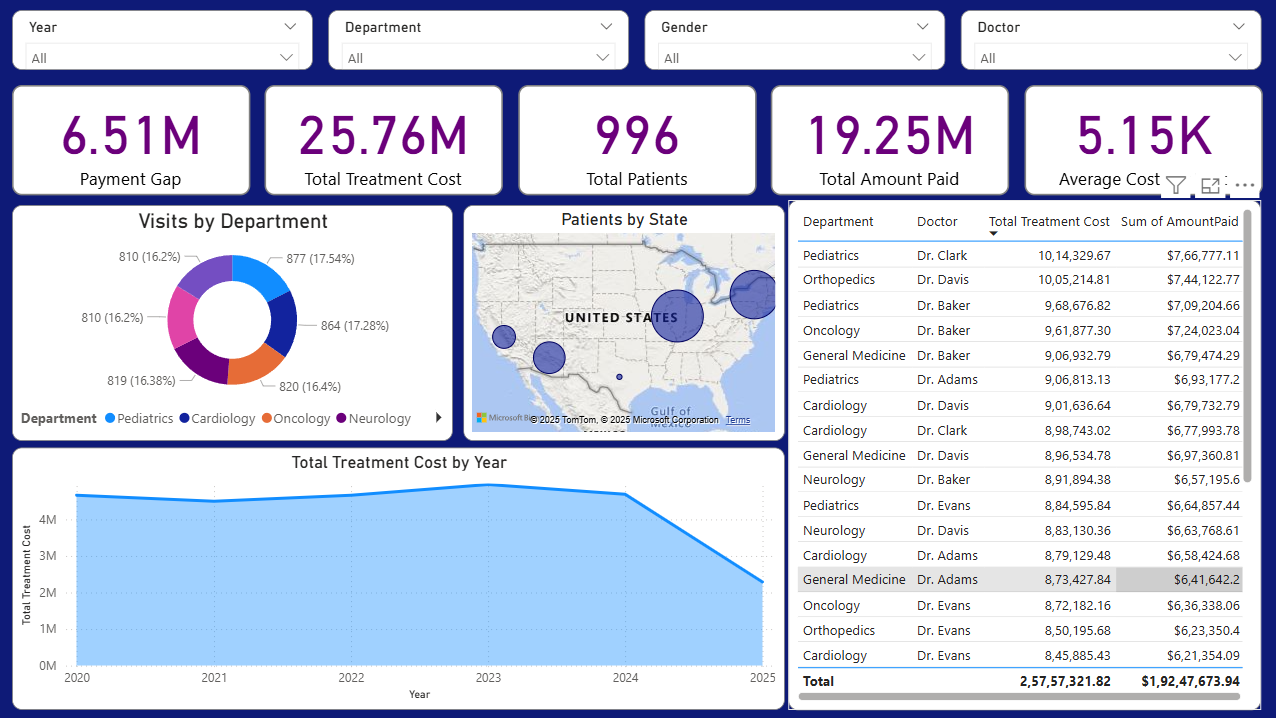

This screenshot's page, from the dashboard's own definition file:
{"tool":"powerbi","page":{"name":"Page 1","canvas":[1280,720],"ordinal":0},"visuals":[{"type":"card","fields":{"Values":["Patients.Total Patients"]},"box":[521,85,238,110],"z":0},{"type":"card","fields":{"Values":["Visits.Total Treatment Cost"]},"box":[268,85,238,110],"z":1000},{"type":"card","fields":{"Values":["Billing.Total Amount Paid"]},"box":[774,85,238,110],"z":2000},{"type":"card","fields":{"Values":["Billing.Payment Gap"]},"box":[15,85,238,110],"z":3000},{"type":"card","fields":{"Values":["Visits.Average Cost per Visit"]},"box":[1027,85,238,110],"z":4000},{"type":"donutChart","title":"Visits by Department","fields":{"Category":["Visits.Department"],"Y":["Visits.VisitID"]},"box":[15.2,204.5,440.9,236.4],"z":5000},{"type":"areaChart","fields":{"Category":["DateTable.Date.Variation.Date Hierarchy.Year"],"Y":["Visits.Total Treatment Cost"]},"box":[15.2,447,772.7,262.1],"z":6000},{"type":"map","title":"Patients by State","fields":{"Category":["Patients.State"],"Size":["Patients.PatientID"]},"box":[466.7,204.5,321.2,236.4],"z":7000},{"type":"slicer","fields":{"Values":["DateTable.Year"]},"box":[15,10,301,60],"z":8000},{"type":"slicer","fields":{"Values":["Visits.Department"]},"box":[331,10,301,60],"z":9000},{"type":"slicer","fields":{"Values":["Visits.Doctor"]},"box":[964,10,301,60],"z":10000},{"type":"slicer","fields":{"Values":["Patients.Gender"]},"box":[648,10,301,60],"z":11000},{"type":"tableEx","fields":{"Values":["Visits.Department","Visits.Doctor","Visits.Total Treatment Cost","Billing.AmountPaid"]},"box":[791.4,200.3,472.9,510.3],"z":12000}]}

Visuals, with their boxes in screenshot pixels (x1, y1, x2, y2), scaled from the page's 1280x720 canvas onto the 1276x718 screenshot:
card - Patients.Total Patients: (519,85,757,194)
card - Visits.Total Treatment Cost: (267,85,504,194)
card - Billing.Total Amount Paid: (772,85,1009,194)
card - Billing.Payment Gap: (15,85,252,194)
card - Visits.Average Cost per Visit: (1024,85,1261,194)
"Visits by Department" donutChart: (15,204,455,440)
areaChart - DateTable.Date.Variation.Date Hierarchy.Year x Visits.Total Treatment Cost: (15,446,785,707)
"Patients by State" map: (465,204,785,440)
slicer - DateTable.Year: (15,10,315,70)
slicer - Visits.Department: (330,10,630,70)
slicer - Visits.Doctor: (961,10,1261,70)
slicer - Patients.Gender: (646,10,946,70)
tableEx - Visits.Department x Visits.Doctor: (789,200,1260,709)
